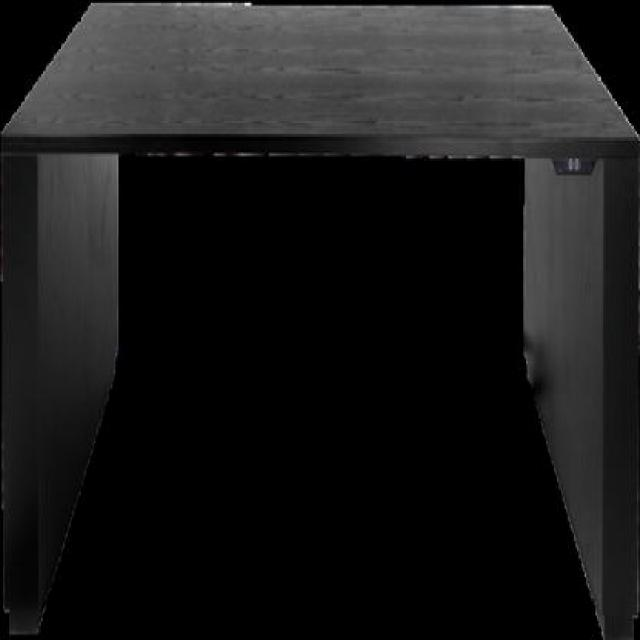table: (1, 5, 639, 638)
